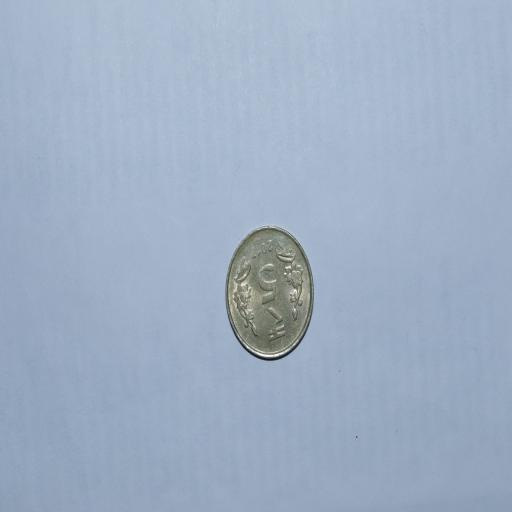rupee5: (225, 226, 314, 360)
